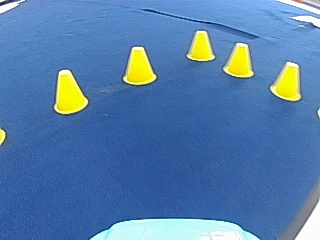cone: (53, 68, 88, 115), (122, 45, 156, 85), (270, 60, 302, 100), (223, 42, 254, 77), (186, 30, 215, 61)
